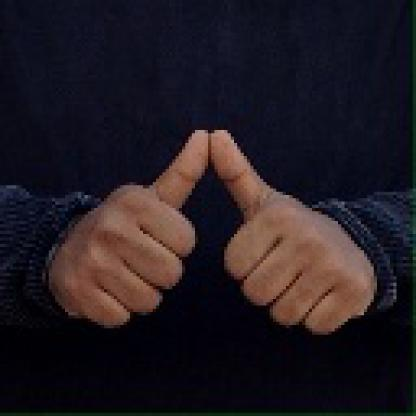A: (35, 124, 382, 335)
